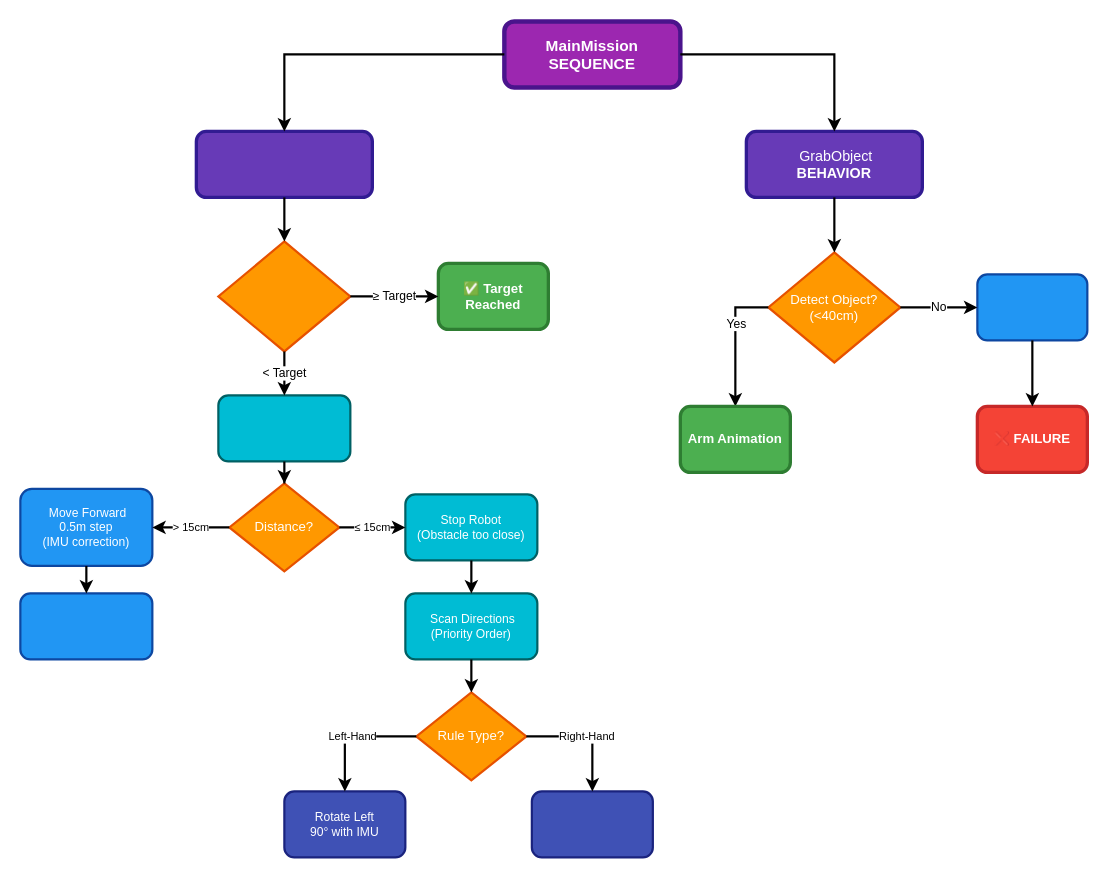
This 1108x877 diagram has some shape labels left out. The centre of each missing label's shape, as x and y in pixels:
Beep Error (3 times): the point at 1032,307
Check Distance from Start: the point at 284,296
MazeNavigator BEHAVIOR: the point at 283,164
Rotate Right 90° with IMU: the point at 591,824
Sense Obstacle Ultrasonic Sensor: the point at 284,428
Update Position (x, y, heading): the point at 86,626
